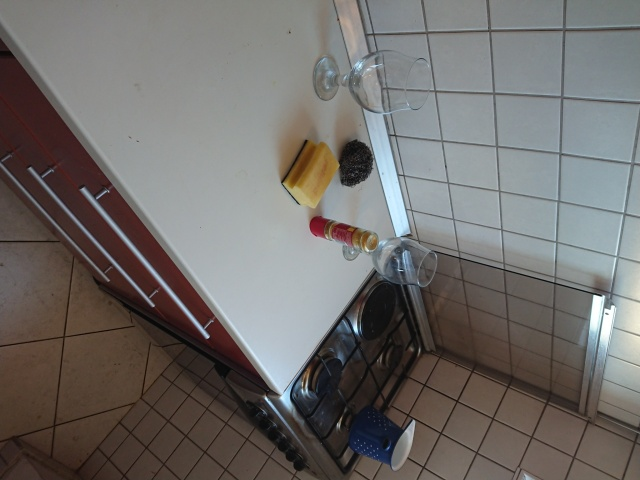Kotanyi Curry Spices Mix 70g: (307, 213, 381, 255)
